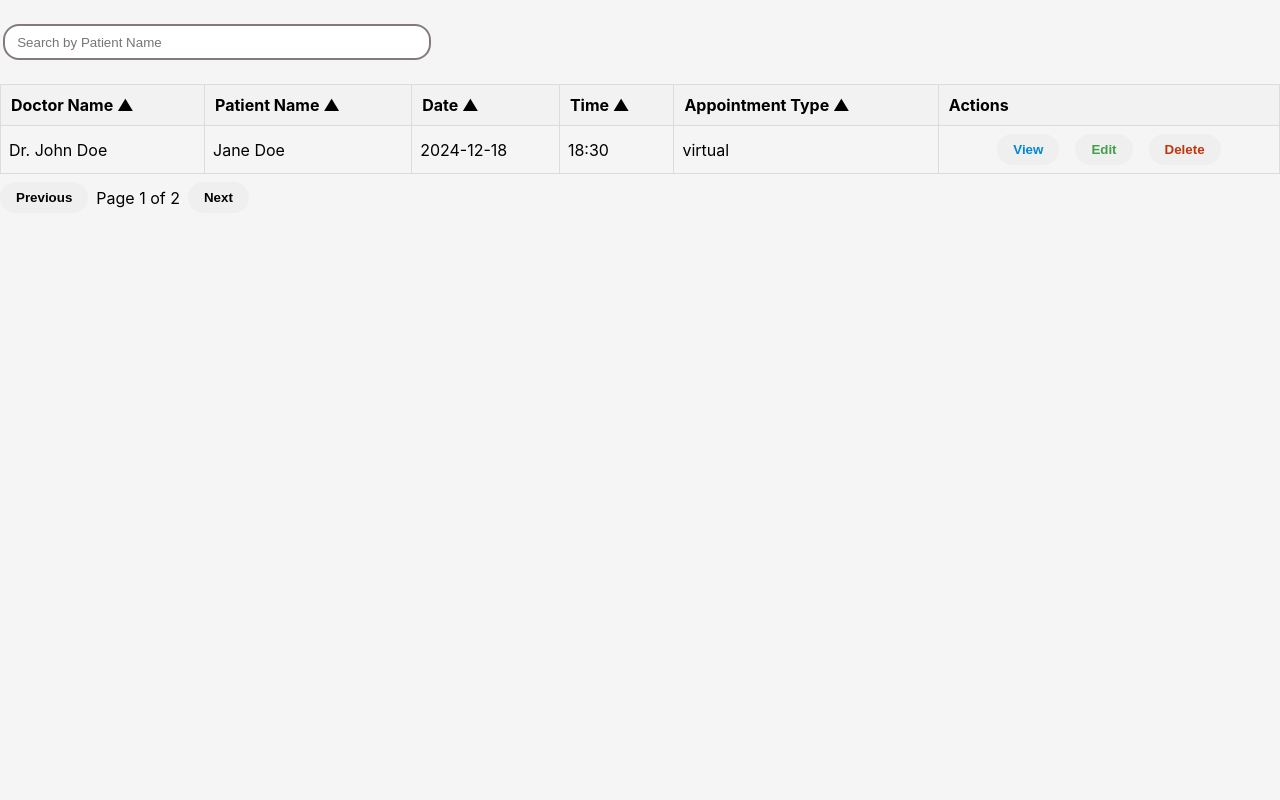
ReusableTable Component › should open View Appointment modal when "View" button is clicked
The width and height of the screenshot is (1280, 800).
Click the button "View".
click(1028, 150)  # box [997, 134, 1059, 165]
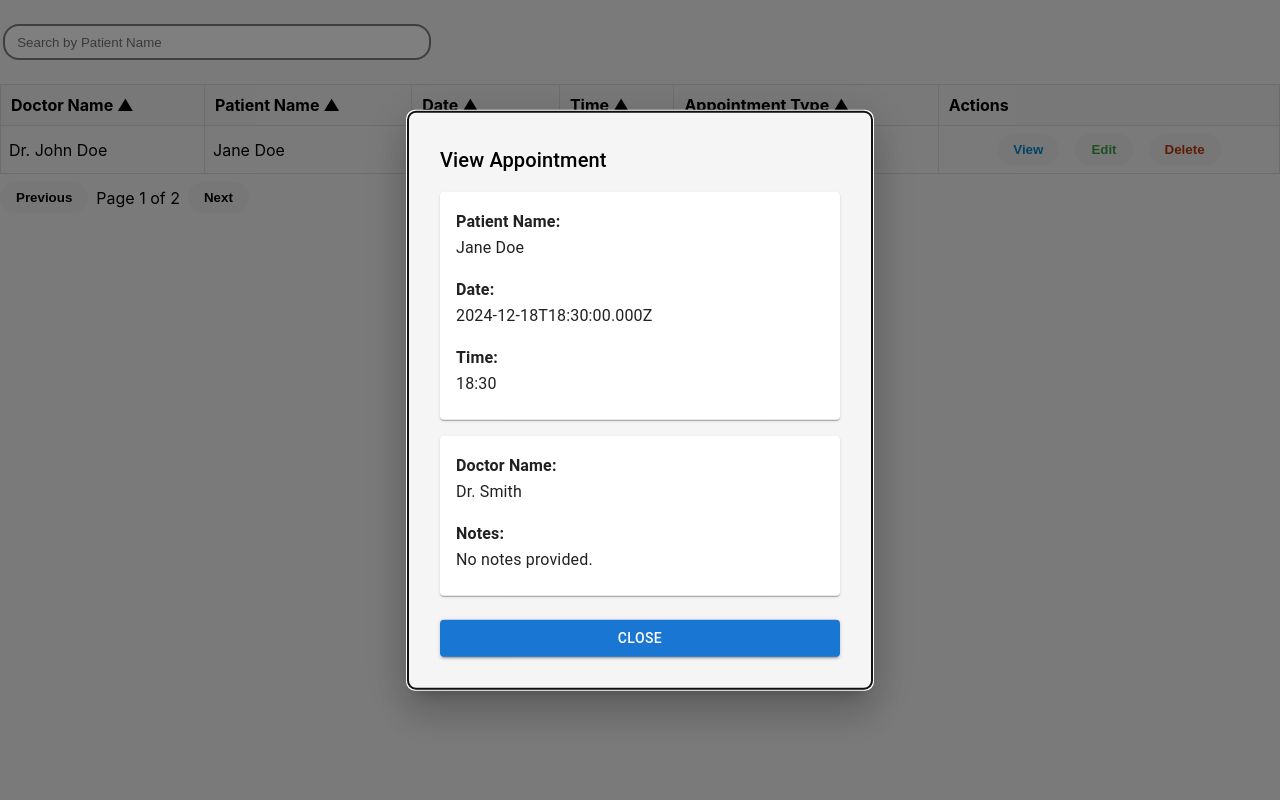
expect the heading "View Appointment" is shown: met, box [440, 148, 607, 172]
expect the text "Dr. Smith" is shown: met, box [456, 482, 522, 501]
